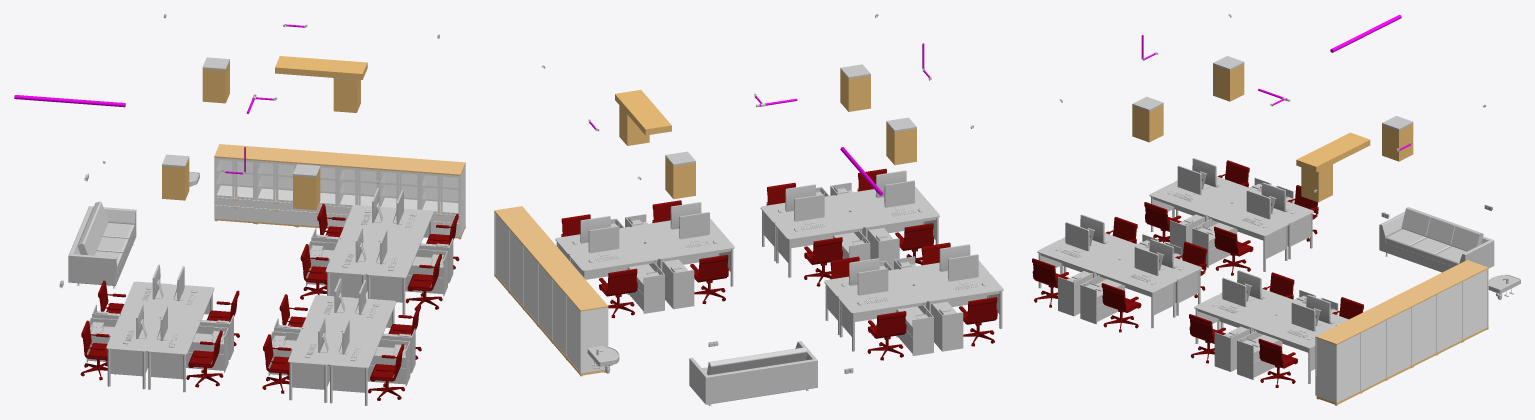
The picture shows the model from 3 angles, left to right: view 1: azimuth 30°, elevation 25°; view 2: azimuth 150°, elevation 25°; view 3: azimuth 270°, elevation 25°; orthographic projection. The views are drawn at different scales.
Visible parts, largest first — view 1: 双人沙发:双人沙发:3195736[0L0x_AcG15qhKD$R4pGVQ7], 电脑桌:1350mm x 640mm:3169491[0L0x_AcG15qhKD$R4pGMaC], 电脑桌:1350mm x 640mm:3194408[0L0x_AcG15qhKD$R4pGOlt], 电脑桌:1350mm x 640mm:3194468[0L0x_AcG15qhKD$R4pGOkx], 电脑桌:1350mm x 640mm:3194404[0L0x_AcG15qhKD$R4pGOlx], 电脑桌:1350mm x 640mm:3194099[0L0x_AcG15qhKD$R4pGOai], 书柜4:W750*D530*H1303 mm:3404745[2iiEkHd3r9qOXEQVNgno5g], 书柜4:W750*D530*H1303 mm:3405074[2iiEkHd3r9qOXEQVNgnoUn], 书柜4:W750*D530*H1303 mm:3405110[2iiEkHd3r9qOXEQVNgnoUL], 电脑桌:1350mm x 640mm:3194472[0L0x_AcG15qhKD$R4pGOkt], 书柜4:W750*D530*H1303 mm:3405092[2iiEkHd3r9qOXEQVNgnoU7], 电脑桌:1350mm x 640mm:3169045[0L0x_AcG15qhKD$R4pGMxA] (+25 smaller); view 2: 双人沙发:双人沙发:3195736[0L0x_AcG15qhKD$R4pGVQ7], 电脑桌:1350mm x 640mm:3194402[0L0x_AcG15qhKD$R4pGOlz], 电脑桌:1350mm x 640mm:3194404[0L0x_AcG15qhKD$R4pGOlx], 电脑桌:1350mm x 640mm:3194472[0L0x_AcG15qhKD$R4pGOkt], 电脑桌:1350mm x 640mm:3194470[0L0x_AcG15qhKD$R4pGOkv], 电脑桌:1350mm x 640mm:3194097[0L0x_AcG15qhKD$R4pGOak], 电脑桌:1350mm x 640mm:3194099[0L0x_AcG15qhKD$R4pGOai], 书柜4:W750*D530*H1303 mm:3404745[2iiEkHd3r9qOXEQVNgno5g], 电脑桌:1350mm x 640mm:3169045[0L0x_AcG15qhKD$R4pGMxA], 电脑桌:1350mm x 640mm:3194406[0L0x_AcG15qhKD$R4pGOlv], 书柜4:W750*D530*H1303 mm:3405074[2iiEkHd3r9qOXEQVNgnoUn], 书柜4:W750*D530*H1303 mm:3405110[2iiEkHd3r9qOXEQVNgnoUL] (+19 smaller); view 3: 双人沙发:双人沙发:3195736[0L0x_AcG15qhKD$R4pGVQ7], 电脑桌:1350mm x 640mm:3169045[0L0x_AcG15qhKD$R4pGMxA], 电脑桌:1350mm x 640mm:3194406[0L0x_AcG15qhKD$R4pGOlv], 书柜4:W750*D530*H1303 mm:3405110[2iiEkHd3r9qOXEQVNgnoUL], 电脑桌:1350mm x 640mm:3194466[0L0x_AcG15qhKD$R4pGOkz], 电脑桌:1350mm x 640mm:3194468[0L0x_AcG15qhKD$R4pGOkx], 电脑桌:1350mm x 640mm:3169491[0L0x_AcG15qhKD$R4pGMaC], 电脑桌:1350mm x 640mm:3194408[0L0x_AcG15qhKD$R4pGOlt], 书柜4:W750*D530*H1303 mm:3405092[2iiEkHd3r9qOXEQVNgnoU7], 书柜4:W750*D530*H1303 mm:3405102[2iiEkHd3r9qOXEQVNgnoUD], 书柜4:W750*D530*H1303 mm:3405082[2iiEkHd3r9qOXEQVNgnoUv], 书柜4:W750*D530*H1303 mm:3404745[2iiEkHd3r9qOXEQVNgno5g] (+23 smaller).
Part boxes in pixels (bbox=[...]): 双人沙发:双人沙发:3195736[0L0x_AcG15qhKD$R4pGVQ7]: bbox=[68, 201, 136, 288]; 电脑桌:1350mm x 640mm:3169491[0L0x_AcG15qhKD$R4pGMaC]: bbox=[328, 319, 410, 405]; 电脑桌:1350mm x 640mm:3194408[0L0x_AcG15qhKD$R4pGOlt]: bbox=[146, 306, 228, 392]; 电脑桌:1350mm x 640mm:3194468[0L0x_AcG15qhKD$R4pGOkx]: bbox=[366, 229, 447, 315]; 电脑桌:1350mm x 640mm:3194404[0L0x_AcG15qhKD$R4pGOlx]: bbox=[86, 304, 159, 389]; 电脑桌:1350mm x 640mm:3194099[0L0x_AcG15qhKD$R4pGOai]: bbox=[268, 318, 341, 402]; 书柜4:W750*D530*H1303 mm:3404745[2iiEkHd3r9qOXEQVNgno5g]: bbox=[214, 144, 260, 223]; 书柜4:W750*D530*H1303 mm:3405074[2iiEkHd3r9qOXEQVNgnoUn]: bbox=[255, 147, 301, 227]; 书柜4:W750*D530*H1303 mm:3405110[2iiEkHd3r9qOXEQVNgnoUL]: bbox=[419, 159, 465, 239]; 电脑桌:1350mm x 640mm:3194472[0L0x_AcG15qhKD$R4pGOkt]: bbox=[306, 227, 379, 298]; 书柜4:W750*D530*H1303 mm:3405092[2iiEkHd3r9qOXEQVNgnoU7]: bbox=[337, 153, 383, 227]; 电脑桌:1350mm x 640mm:3169045[0L0x_AcG15qhKD$R4pGMxA]: bbox=[342, 280, 415, 373]; 双人沙发:双人沙发:3195736[0L0x_AcG15qhKD$R4pGVQ7]: bbox=[689, 341, 817, 405]; 电脑桌:1350mm x 640mm:3194402[0L0x_AcG15qhKD$R4pGOlz]: bbox=[838, 268, 933, 355]; 电脑桌:1350mm x 640mm:3194404[0L0x_AcG15qhKD$R4pGOlx]: bbox=[915, 254, 1003, 351]; 电脑桌:1350mm x 640mm:3194472[0L0x_AcG15qhKD$R4pGOkt]: bbox=[646, 212, 734, 309]; 电脑桌:1350mm x 640mm:3194470[0L0x_AcG15qhKD$R4pGOkv]: bbox=[569, 226, 664, 313]; 电脑桌:1350mm x 640mm:3194097[0L0x_AcG15qhKD$R4pGOak]: bbox=[774, 194, 870, 277]; 电脑桌:1350mm x 640mm:3194099[0L0x_AcG15qhKD$R4pGOai]: bbox=[851, 180, 939, 269]; 书柜4:W750*D530*H1303 mm:3404745[2iiEkHd3r9qOXEQVNgno5g]: bbox=[566, 289, 608, 376]; 电脑桌:1350mm x 640mm:3169045[0L0x_AcG15qhKD$R4pGMxA]: bbox=[760, 184, 849, 261]; 电脑桌:1350mm x 640mm:3194406[0L0x_AcG15qhKD$R4pGOlv]: bbox=[824, 258, 913, 334]; 书柜4:W750*D530*H1303 mm:3405074[2iiEkHd3r9qOXEQVNgnoUn]: bbox=[551, 273, 593, 359]; 书柜4:W750*D530*H1303 mm:3405110[2iiEkHd3r9qOXEQVNgnoUL]: bbox=[494, 206, 536, 292]; 双人沙发:双人沙发:3195736[0L0x_AcG15qhKD$R4pGVQ7]: bbox=[1379, 207, 1494, 272]; 电脑桌:1350mm x 640mm:3169045[0L0x_AcG15qhKD$R4pGMxA]: bbox=[1080, 246, 1176, 328]; 电脑桌:1350mm x 640mm:3194406[0L0x_AcG15qhKD$R4pGOlv]: bbox=[1192, 190, 1288, 271]; 书柜4:W750*D530*H1303 mm:3405110[2iiEkHd3r9qOXEQVNgnoUL]: bbox=[1315, 324, 1361, 405]; 电脑桌:1350mm x 640mm:3194466[0L0x_AcG15qhKD$R4pGOkz]: bbox=[1237, 302, 1323, 383]; 电脑桌:1350mm x 640mm:3194468[0L0x_AcG15qhKD$R4pGOkx]: bbox=[1194, 277, 1275, 371]; 电脑桌:1350mm x 640mm:3169491[0L0x_AcG15qhKD$R4pGMaC]: bbox=[1037, 222, 1118, 316]; 电脑桌:1350mm x 640mm:3194408[0L0x_AcG15qhKD$R4pGOlt]: bbox=[1149, 165, 1230, 258]; 书柜4:W750*D530*H1303 mm:3405092[2iiEkHd3r9qOXEQVNgnoU7]: bbox=[1366, 298, 1412, 380]; 书柜4:W750*D530*H1303 mm:3405102[2iiEkHd3r9qOXEQVNgnoUD]: bbox=[1341, 311, 1387, 392]; 书柜4:W750*D530*H1303 mm:3405082[2iiEkHd3r9qOXEQVNgnoUv]: bbox=[1391, 285, 1437, 367]; 书柜4:W750*D530*H1303 mm:3404745[2iiEkHd3r9qOXEQVNgno5g]: bbox=[1442, 260, 1488, 341].
Bounding box in the file's own units: 9.18 × 4.66 × 9.31.
